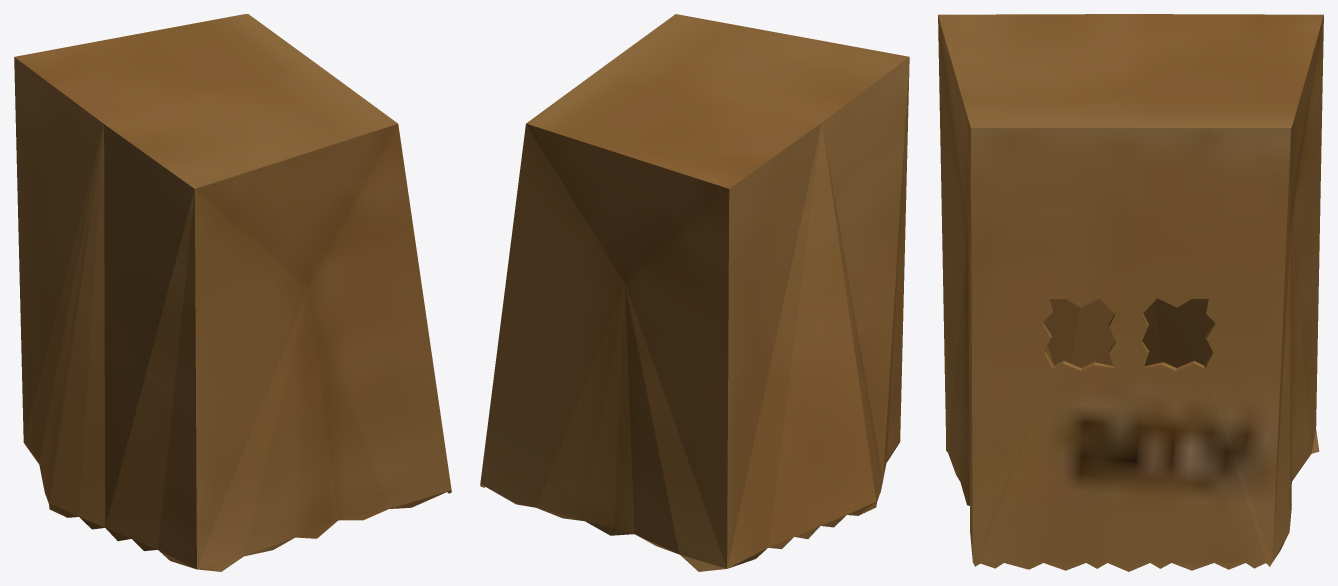
The model's file is PAPERBAG HAT.fbx.
3 renders of one model, left to right at view 1: azimuth 30°, elevation 25°; view 2: azimuth 150°, elevation 25°; view 3: azimuth 270°, elevation 25°, orthographic. The views are drawn at different scales.
Parts seen in each view (by area): view 1: PAPERBAG_HAT; view 2: PAPERBAG_HAT; view 3: PAPERBAG_HAT.
Boxes of the visible parts, x1=… form: PAPERBAG_HAT: x1=14, y1=14, x2=451, y2=571; PAPERBAG_HAT: x1=480, y1=14, x2=909, y2=571; PAPERBAG_HAT: x1=938, y1=14, x2=1323, y2=571.
Size of the model in its own units: 34.14 by 38.86 by 32.29.
